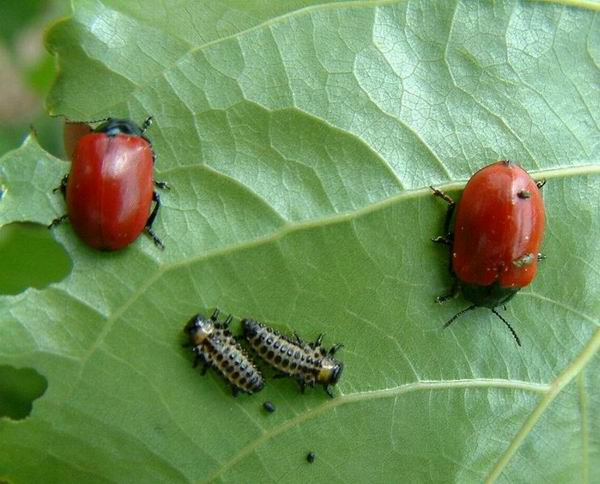Chrysomela_populi: (422, 158, 549, 348), (45, 112, 174, 258)
